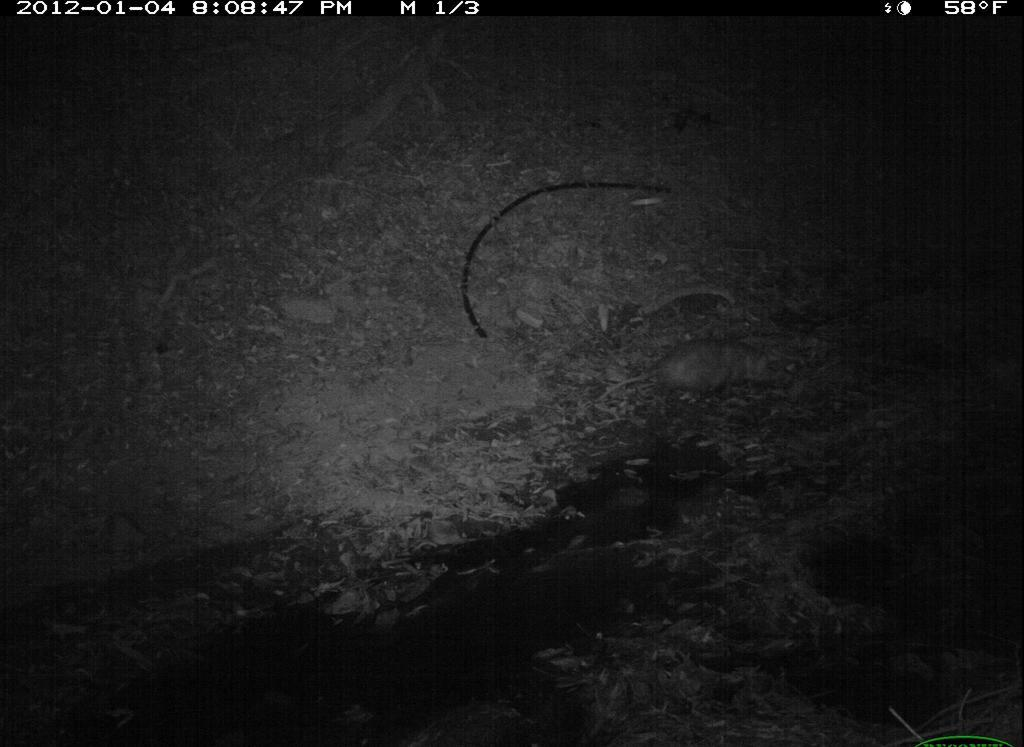opossum: (602, 332, 795, 415)
